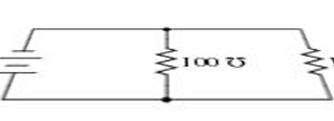resistor: (290, 42, 326, 78), (148, 40, 182, 76)
